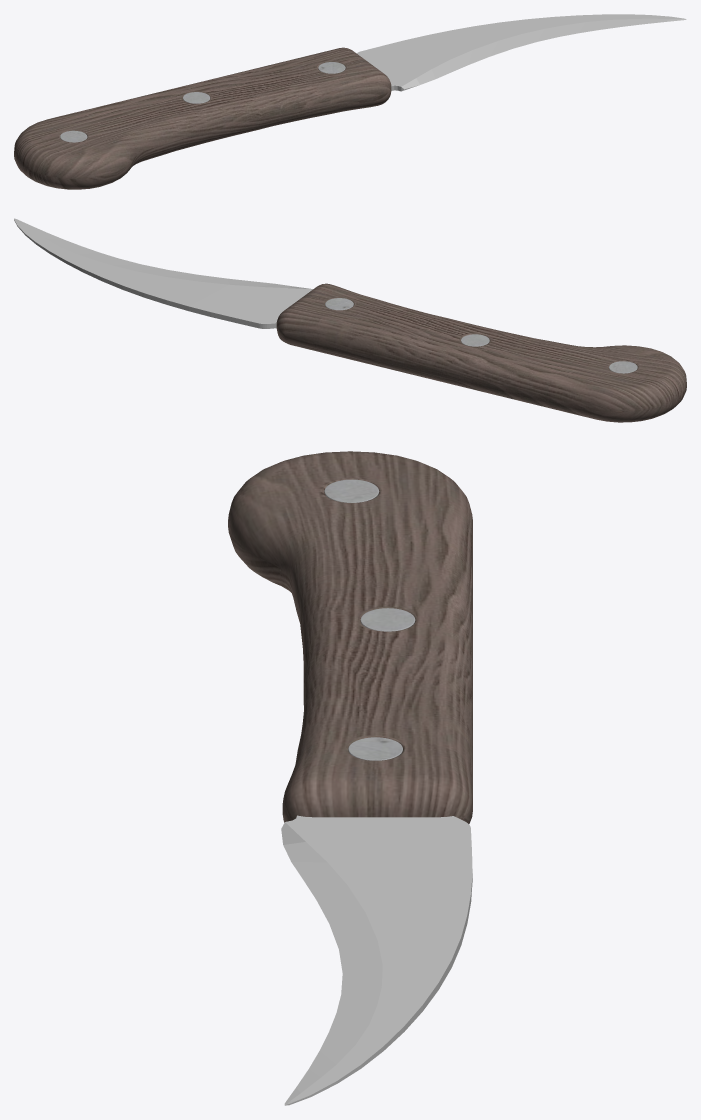
The model's file is peeler.fbx.
The picture shows the model from 3 angles, top to bottom: view 1: azimuth 30°, elevation 25°; view 2: azimuth 150°, elevation 25°; view 3: azimuth 270°, elevation 25°; orthographic projection. The views are drawn at different scales.
Visible parts, largest first — view 1: HiltWood, PeelerBlade, HiltMetal; view 2: HiltWood, PeelerBlade, HiltMetal; view 3: HiltWood, PeelerBlade, HiltMetal.
Boxes of the visible parts, x1=… form: HiltWood: x1=14, y1=47, x2=391, y2=189; PeelerBlade: x1=356, y1=14, x2=686, y2=91; HiltMetal: x1=60, y1=62, x2=345, y2=142; HiltWood: x1=276, y1=283, x2=686, y2=422; PeelerBlade: x1=14, y1=218, x2=312, y2=328; HiltMetal: x1=325, y1=298, x2=637, y2=373; HiltWood: x1=228, y1=451, x2=472, y2=823; PeelerBlade: x1=281, y1=815, x2=472, y2=1105; HiltMetal: x1=324, y1=479, x2=415, y2=760.
Size of what is drawn, in the model's own units: 21.39 by 3.5 by 1.04.
